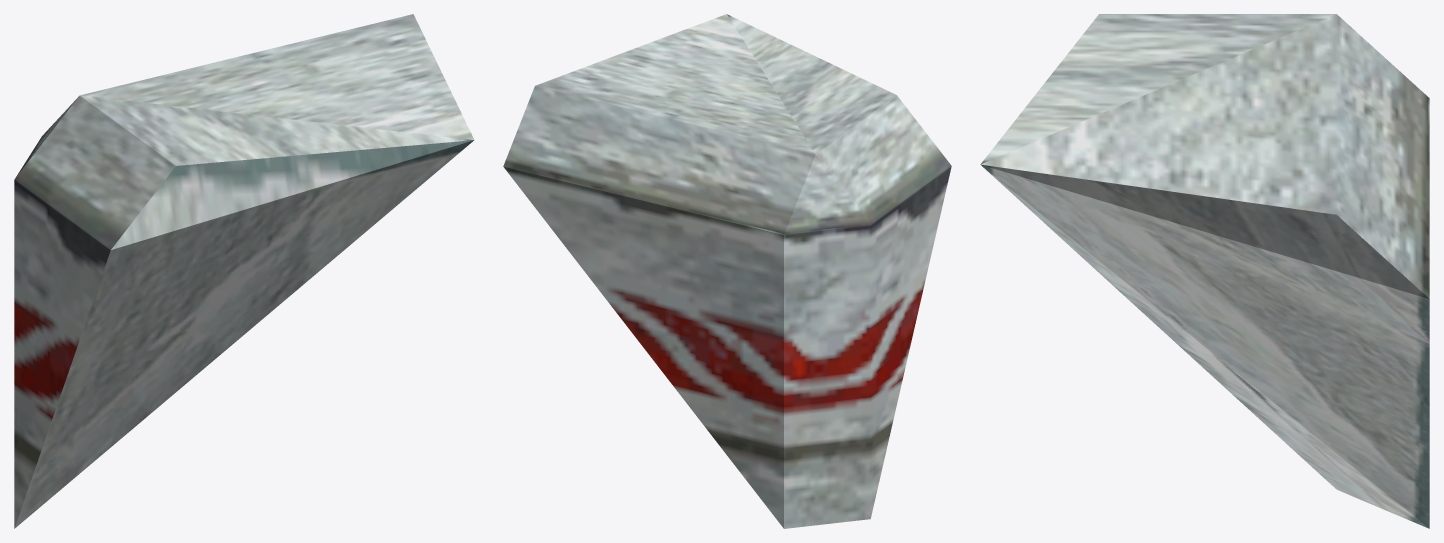
The model's file is Piece9.obj.
3 renders of one model, left to right at view 1: azimuth 30°, elevation 25°; view 2: azimuth 150°, elevation 25°; view 3: azimuth 270°, elevation 25°, orthographic. The views are drawn at different scales.
Size of the model in its own units: 12.22 by 12.22 by 9.67.
Materials: 2 (2 with a texture image).
